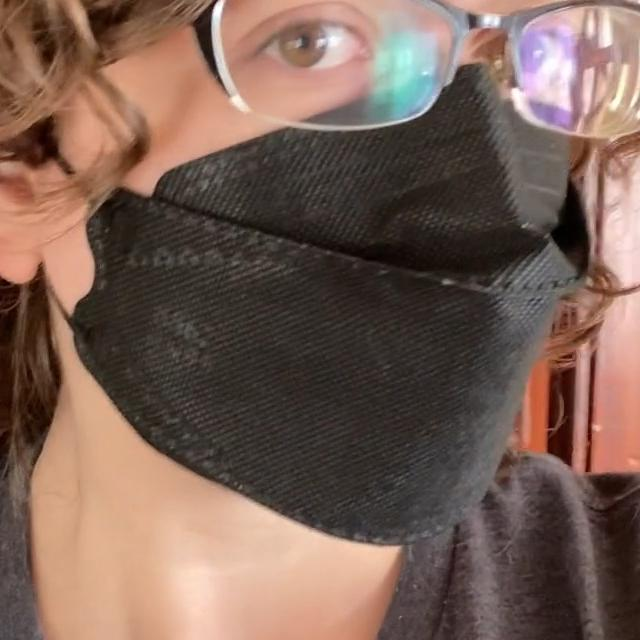Mask: (7, 63, 593, 557)
NO-Safety Vest: (0, 480, 640, 640)
Person: (0, 0, 640, 640)
